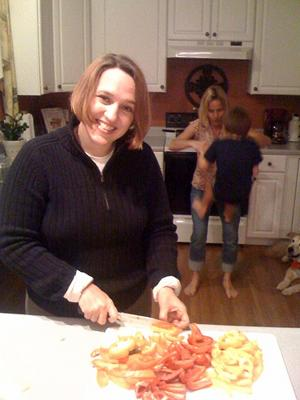person: (1, 51, 191, 333)
